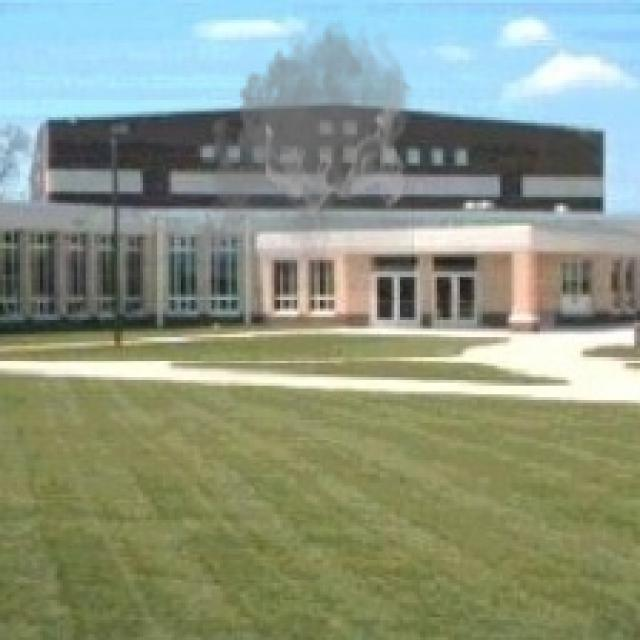Smoke: (197, 8, 414, 292)
